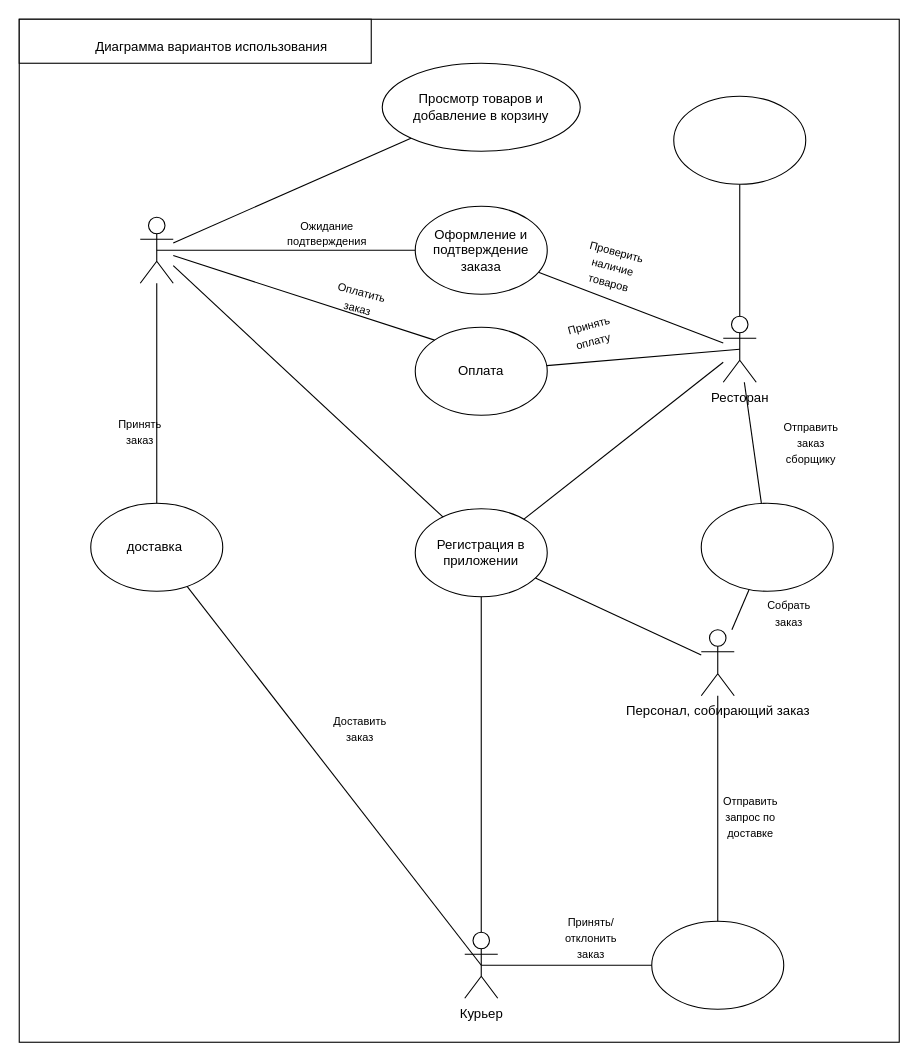
Some shapes in this 919 by 1062 pixel diagram are drawn without their labels. The box of each missing label's shape, as (x1, y1, x2, y2) in pixels:
Клиент: (139, 216, 173, 283)
Поиск курьера: (651, 920, 784, 1009)
Сборка заказа: (700, 502, 833, 591)
Составление меню для приложения, его публикация: (673, 95, 806, 184)
